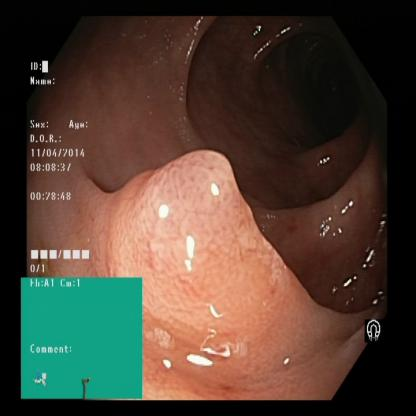Labels: (26, 57, 101, 276), (22, 279, 144, 401), (352, 304, 392, 354)
Polyps: (133, 159, 272, 301)
